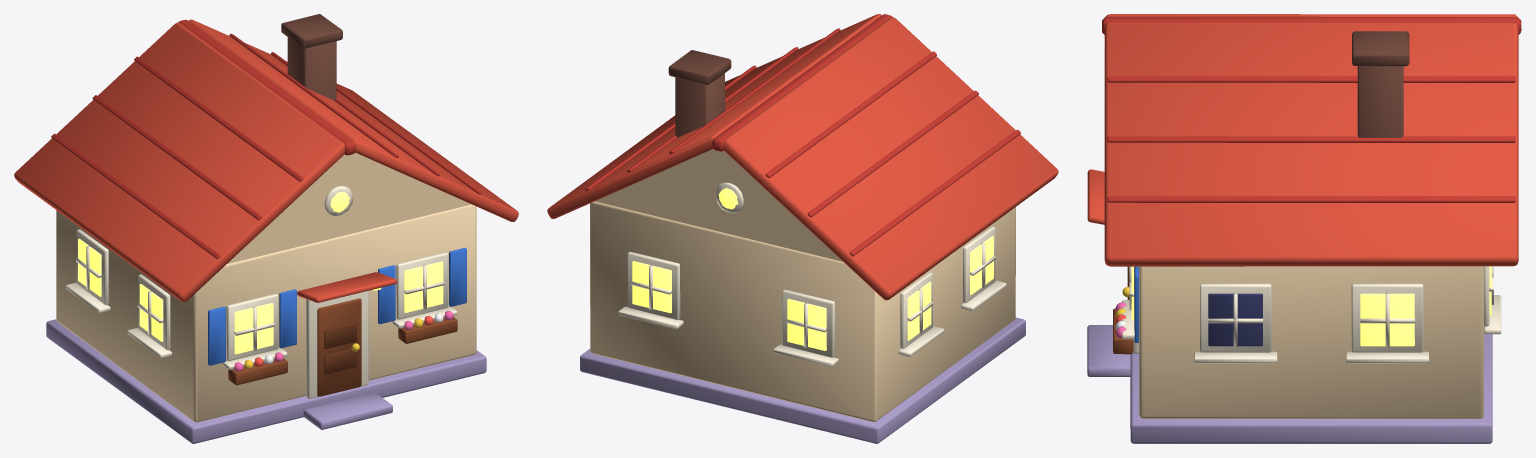
The model's file is house.glb.
3 renders of one model, left to right at view 1: azimuth 30°, elevation 25°; view 2: azimuth 150°, elevation 25°; view 3: azimuth 270°, elevation 25°, orthographic. The views are drawn at different scales.
Parts seen in each view (by area): view 1: Cube; view 2: Cube; view 3: Cube.
Boxes of the visible parts, x1,y1,x2,y2 form: Cube: [14, 14, 518, 443]; Cube: [547, 14, 1058, 443]; Cube: [1087, 14, 1521, 443].
Size of the model in its own units: 8.41 by 6.88 by 7.55.
